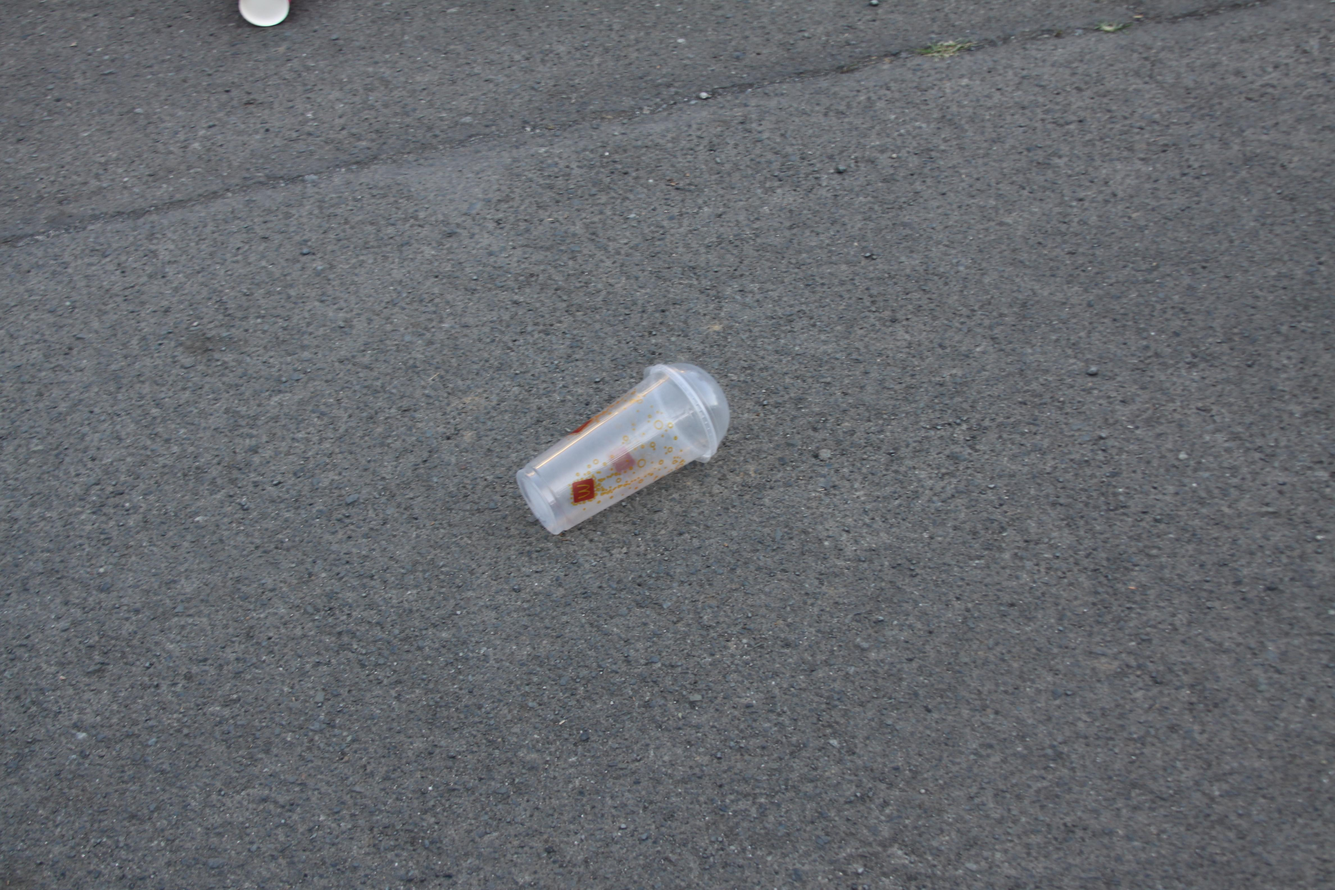Plastic: (515, 360, 732, 537)
